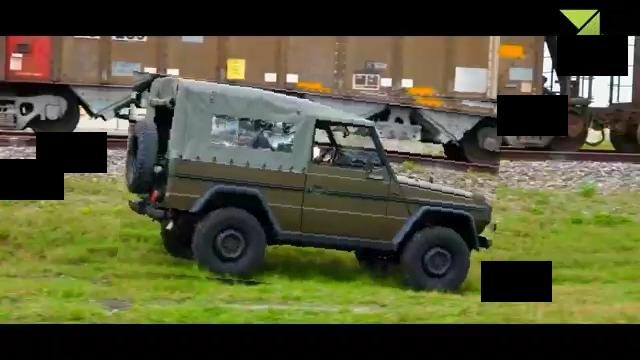MIL_HMMWV: (120, 80, 501, 294)
